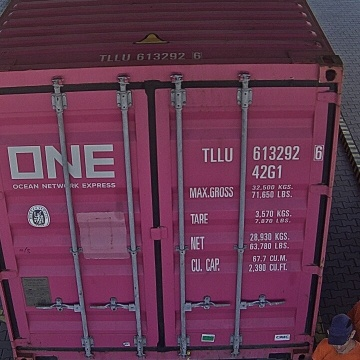serial_id: (202, 145, 323, 161)
